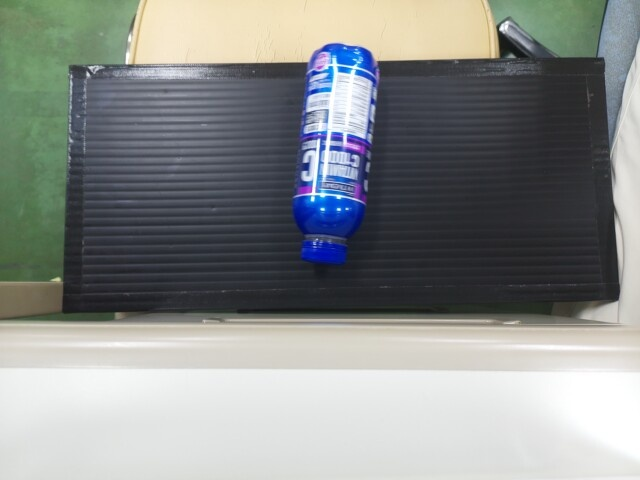plastic_bottle: (296, 44, 359, 263)
